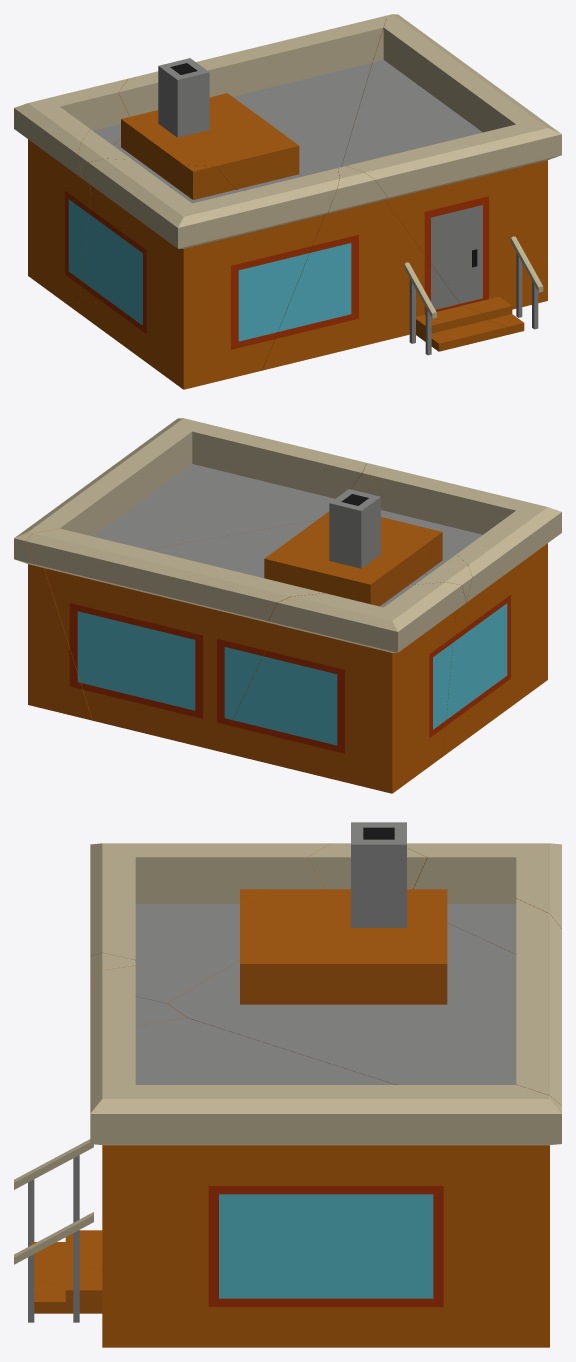
File: House 4.1 Fractured.fbx
3 views of the same model, one above another, from view 1: azimuth 30°, elevation 25°; view 2: azimuth 150°, elevation 25°; view 3: azimuth 270°, elevation 25° (orthographic). The views are drawn at different scales.
Visible parts, largest first — view 1: House_01_Breaking_cell.001, House_01_Breaking_cell, House_01_Breaking_cell.003, House_01_Breaking_cell.002, House_01_Breaking_cell.004; view 2: House_01_Breaking_cell.003, House_01_Breaking_cell.004, House_01_Breaking_cell, House_01_Breaking_cell.001, House_01_Breaking_cell.002; view 3: House_01_Breaking_cell, House_01_Breaking_cell.003, House_01_Breaking_cell.001, House_01_Breaking_cell.004, House_01_Breaking_cell.002.
Part boxes in pixels (<box>): House_01_Breaking_cell.001: <box>78,158,339,389</box>; House_01_Breaking_cell: <box>341,14,561,333</box>; House_01_Breaking_cell.003: <box>78,15,386,192</box>; House_01_Breaking_cell.002: <box>262,166,511,370</box>; House_01_Breaking_cell.004: <box>14,78,129,312</box>; House_01_Breaking_cell.003: <box>25,475,472,750</box>; House_01_Breaking_cell.004: <box>218,582,466,793</box>; House_01_Breaking_cell: <box>14,418,366,720</box>; House_01_Breaking_cell.001: <box>370,469,561,756</box>; House_01_Breaking_cell.002: <box>351,463,391,511</box>; House_01_Breaking_cell: <box>14,965,561,1347</box>; House_01_Breaking_cell.003: <box>167,822,561,1105</box>; House_01_Breaking_cell.001: <box>90,843,330,1003</box>; House_01_Breaking_cell.004: <box>407,843,561,954</box>; House_01_Breaking_cell.002: <box>14,952,186,1289</box>.
Size of the model in its own units: 354 by 200 by 304.
